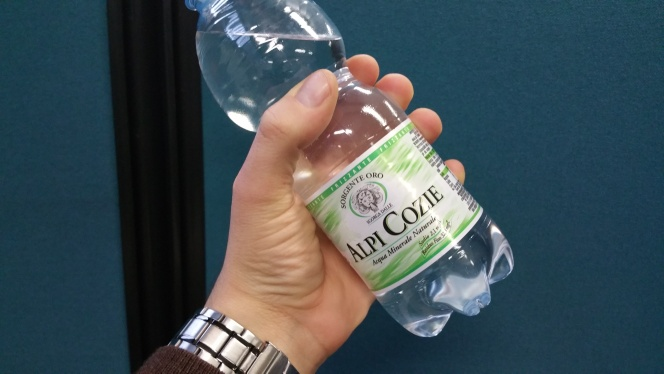bottle: (179, 1, 519, 330)
